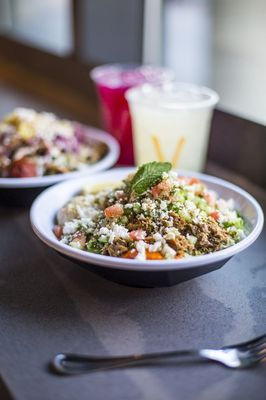salad: (50, 332, 264, 376)
sushi: (30, 163, 263, 284), (0, 107, 121, 207)
